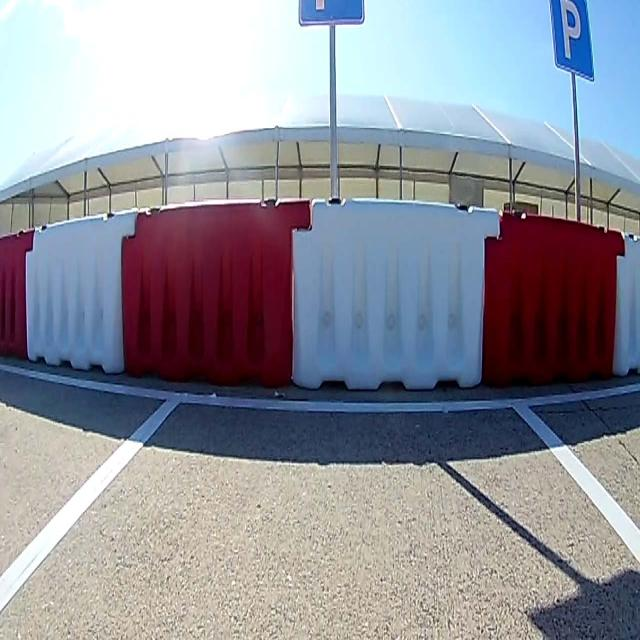park: (552, 1, 594, 77)
